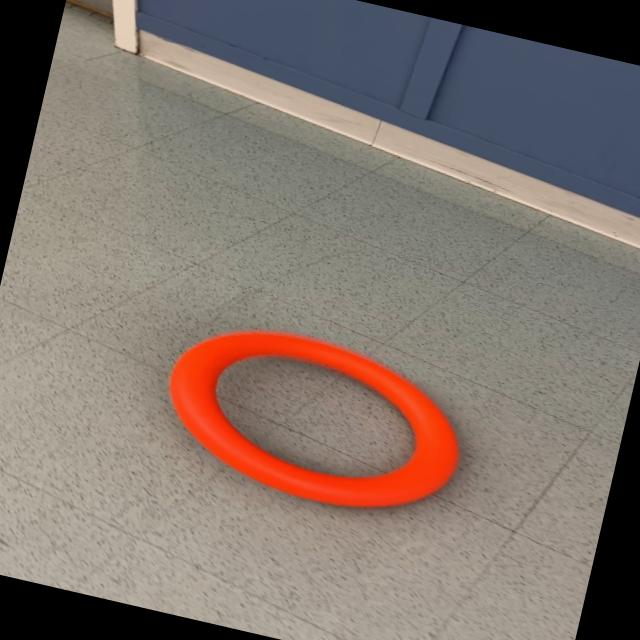note: (147, 306, 480, 532)
